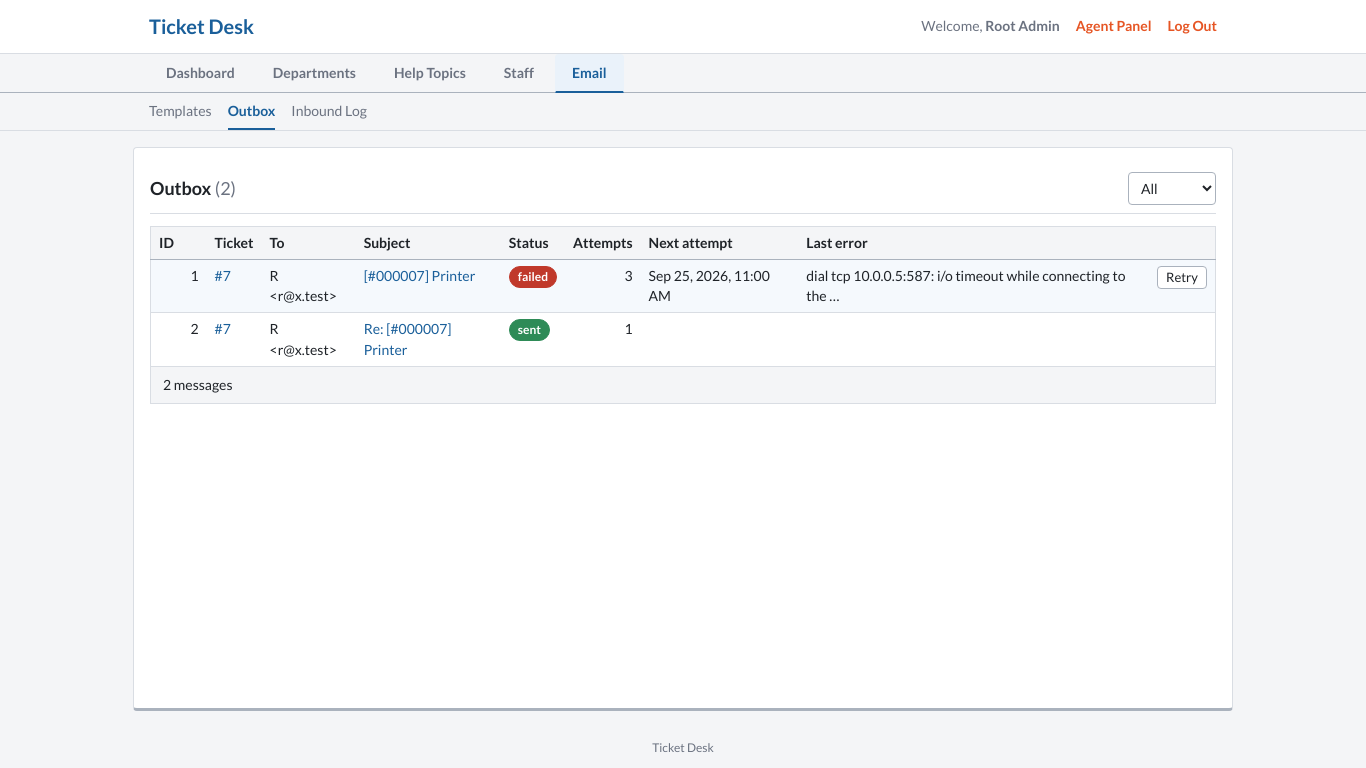
outbox › retry on a failed row POSTs and flashes
The image size is (1366, 768).
Click the button "Retry" at (1182, 278), box [1157,266,1207,290]
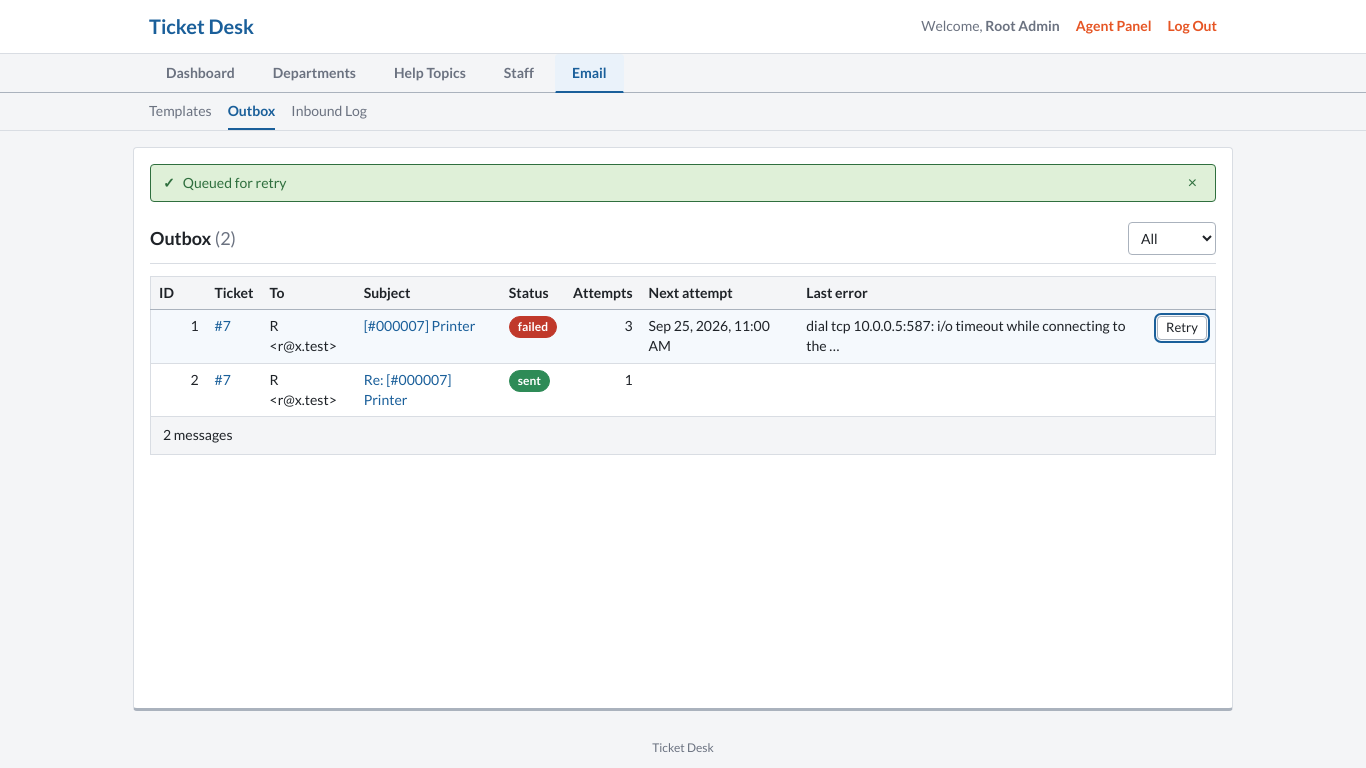
Result: the message shows "Queued for retry" at [183,174,286,191]
